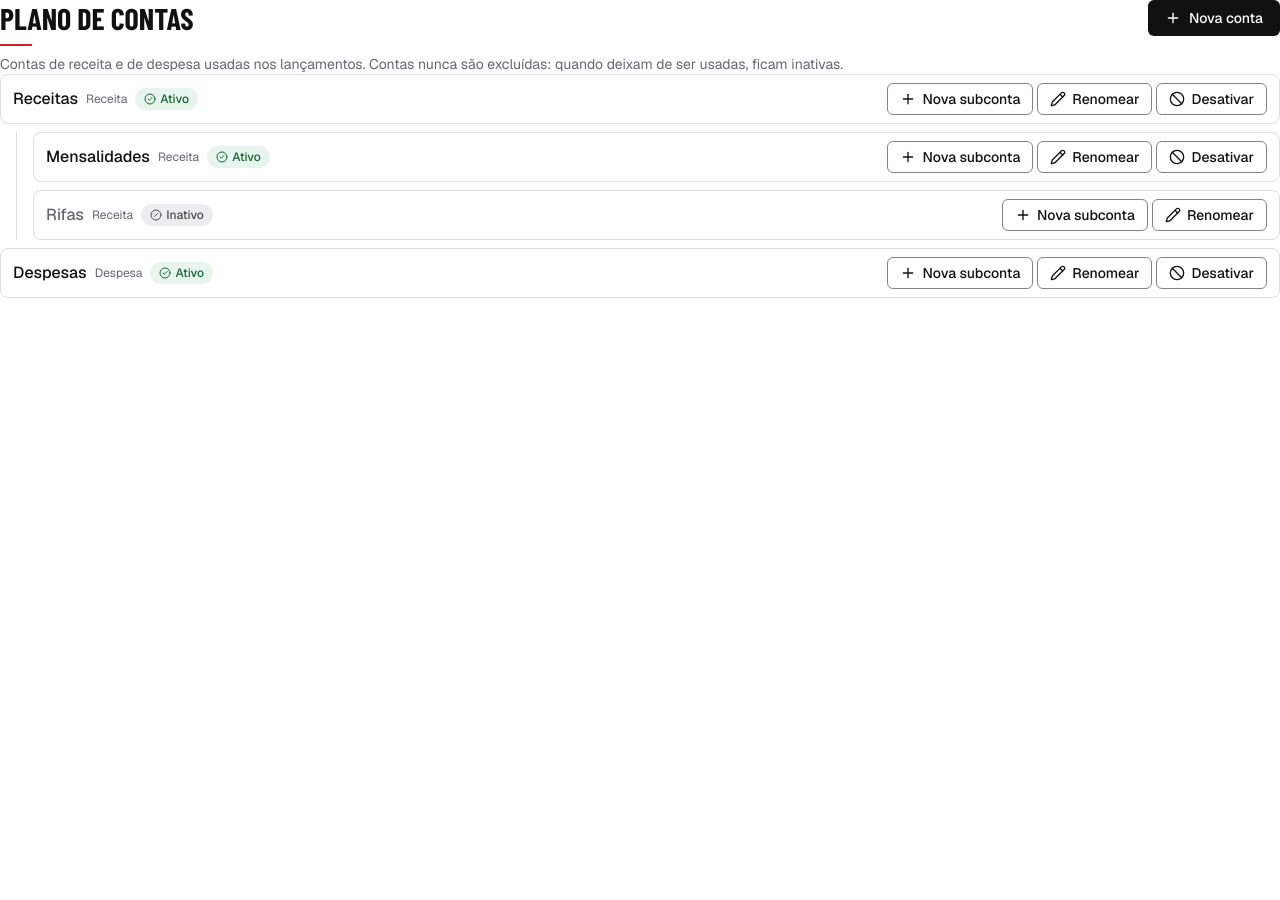
Test: criar conta › subconta fixa o tipo do pai e envia parent_id
Expected: the heading "Plano de contas" is shown, 0,0 -> 194,46
Expected: the text "Receitas" is shown, 13,87 -> 78,111
Step 1. Click the button with aria-label "Nova subconta em Despesas" → (960, 273), box 888,257 -> 1033,289
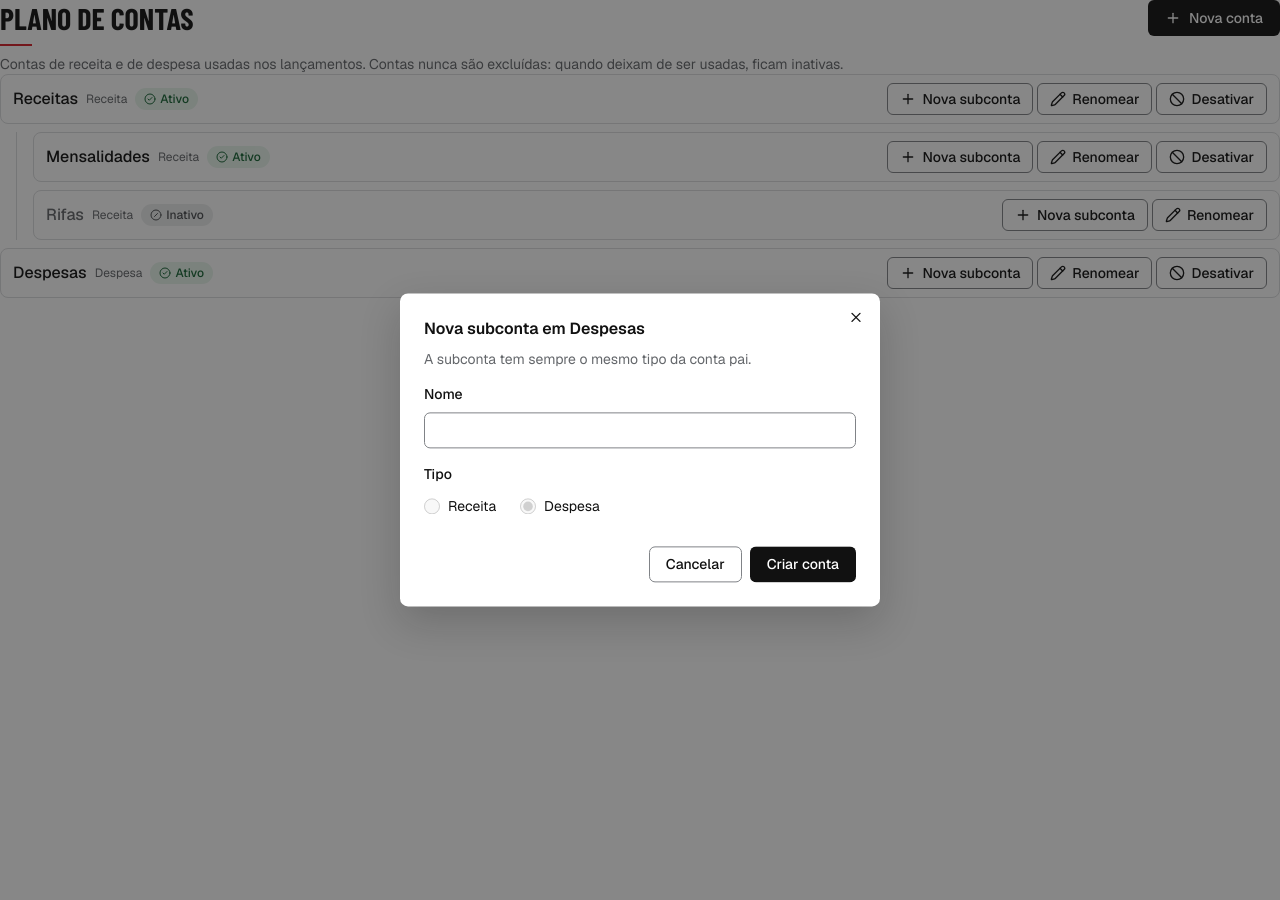
Now the radio button labelled "Despesa" is checked, box 520,499 -> 536,515
Now the radio button labelled "Despesa" is disabled, box 520,499 -> 536,515
Now the radio button labelled "Receita" is not checked, box 424,499 -> 440,515
Step 2. Type "Transporte" into the field labelled "Nome" → (640, 431), box 424,413 -> 856,449
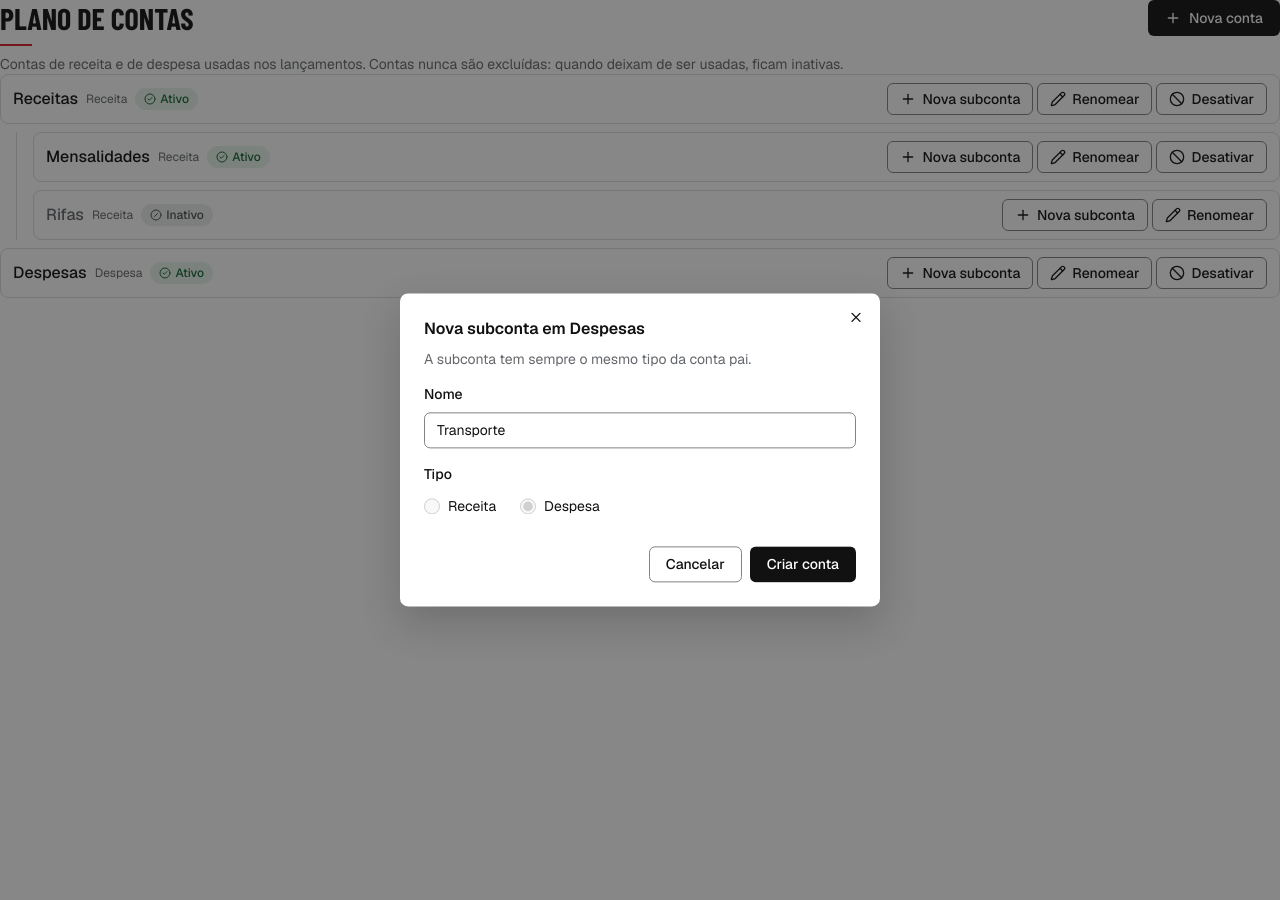
Step 3. Click the button "Criar conta" → (803, 565), box 750,547 -> 856,583
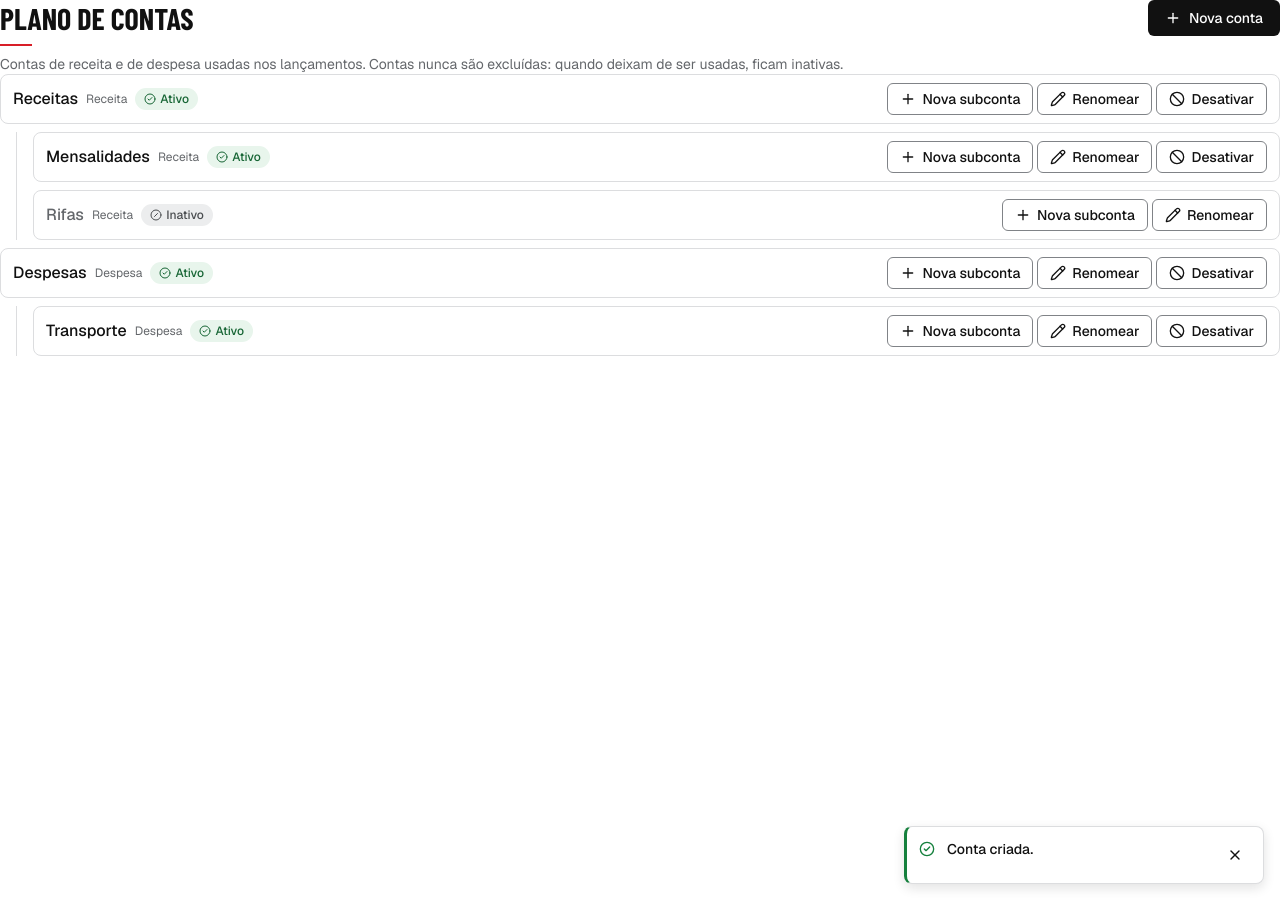
Now the text "Transporte" is shown, box 46,319 -> 127,343
